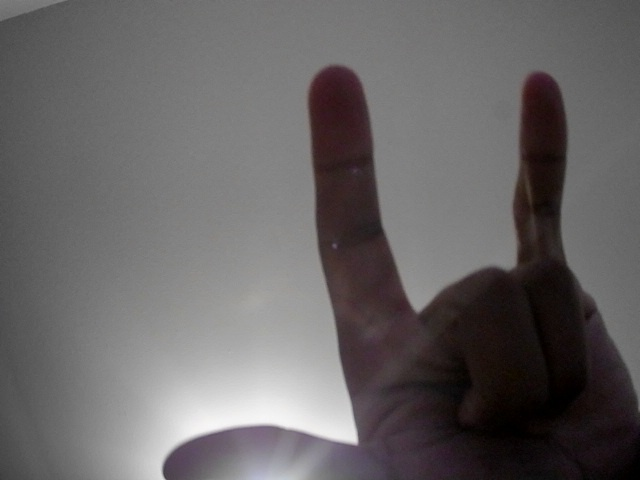ILoveYou: (134, 47, 640, 480)
